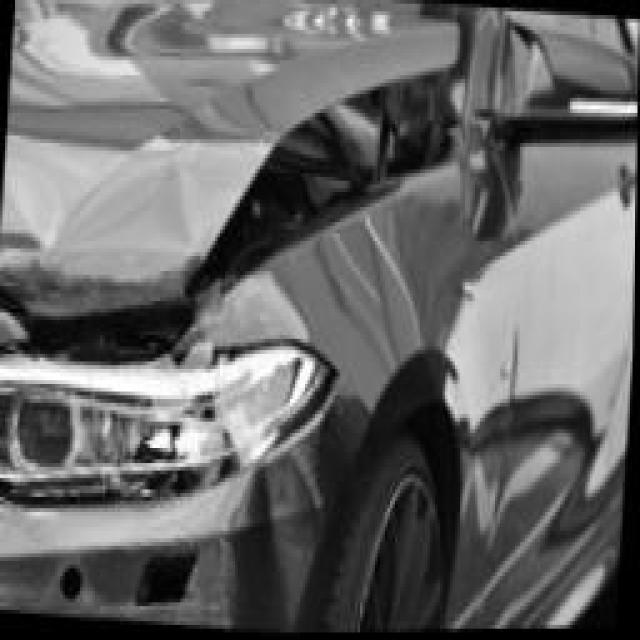Bonnet: (0, 60, 240, 351)
Bumper: (0, 381, 375, 634)
Light: (0, 335, 242, 494)
